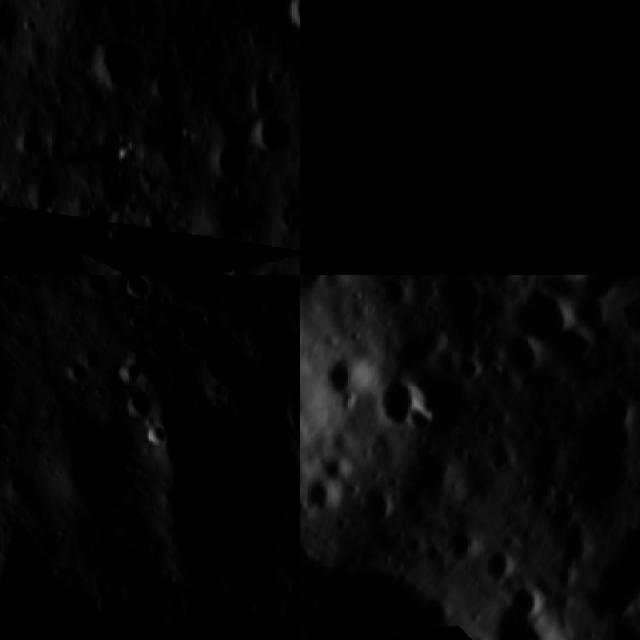crater: (300, 275, 466, 619), (300, 520, 511, 640), (35, 422, 154, 540), (410, 275, 510, 345), (572, 0, 640, 101), (526, 0, 602, 79), (87, 32, 164, 108), (204, 126, 277, 197), (365, 369, 438, 438), (314, 343, 387, 412), (11, 160, 80, 227), (348, 0, 431, 52), (478, 59, 544, 120), (140, 59, 201, 122), (150, 220, 219, 275), (243, 104, 300, 170), (493, 328, 553, 388), (596, 123, 640, 204), (426, 515, 487, 573), (546, 317, 604, 378), (0, 474, 30, 591), (485, 603, 576, 640), (300, 468, 351, 528), (243, 69, 297, 122), (356, 475, 408, 527), (132, 412, 183, 463), (476, 546, 528, 596), (446, 142, 495, 195), (49, 350, 100, 400), (312, 444, 363, 494), (567, 292, 619, 341), (0, 0, 42, 59), (119, 381, 168, 430), (6, 120, 54, 168), (112, 275, 165, 318), (76, 275, 123, 311), (410, 73, 450, 115), (276, 0, 300, 61), (420, 244, 460, 275), (309, 74, 338, 110), (17, 275, 64, 295)
